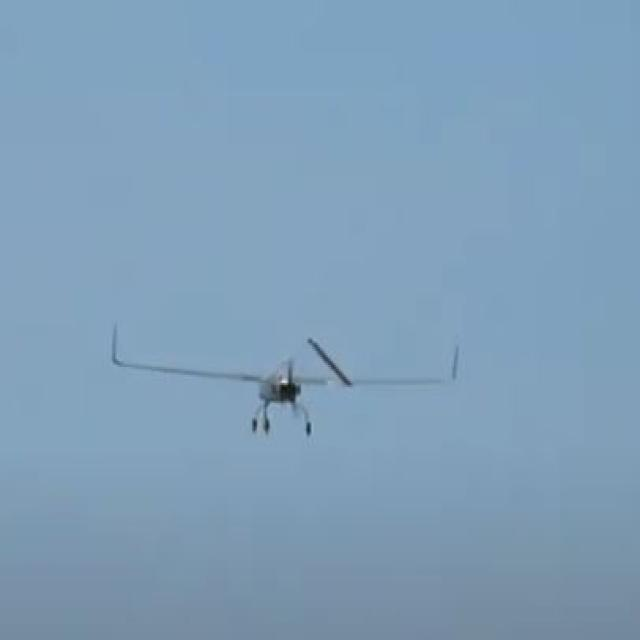iha: (112, 350, 460, 406)
